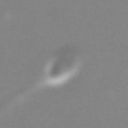normal: (1, 78, 47, 115)
